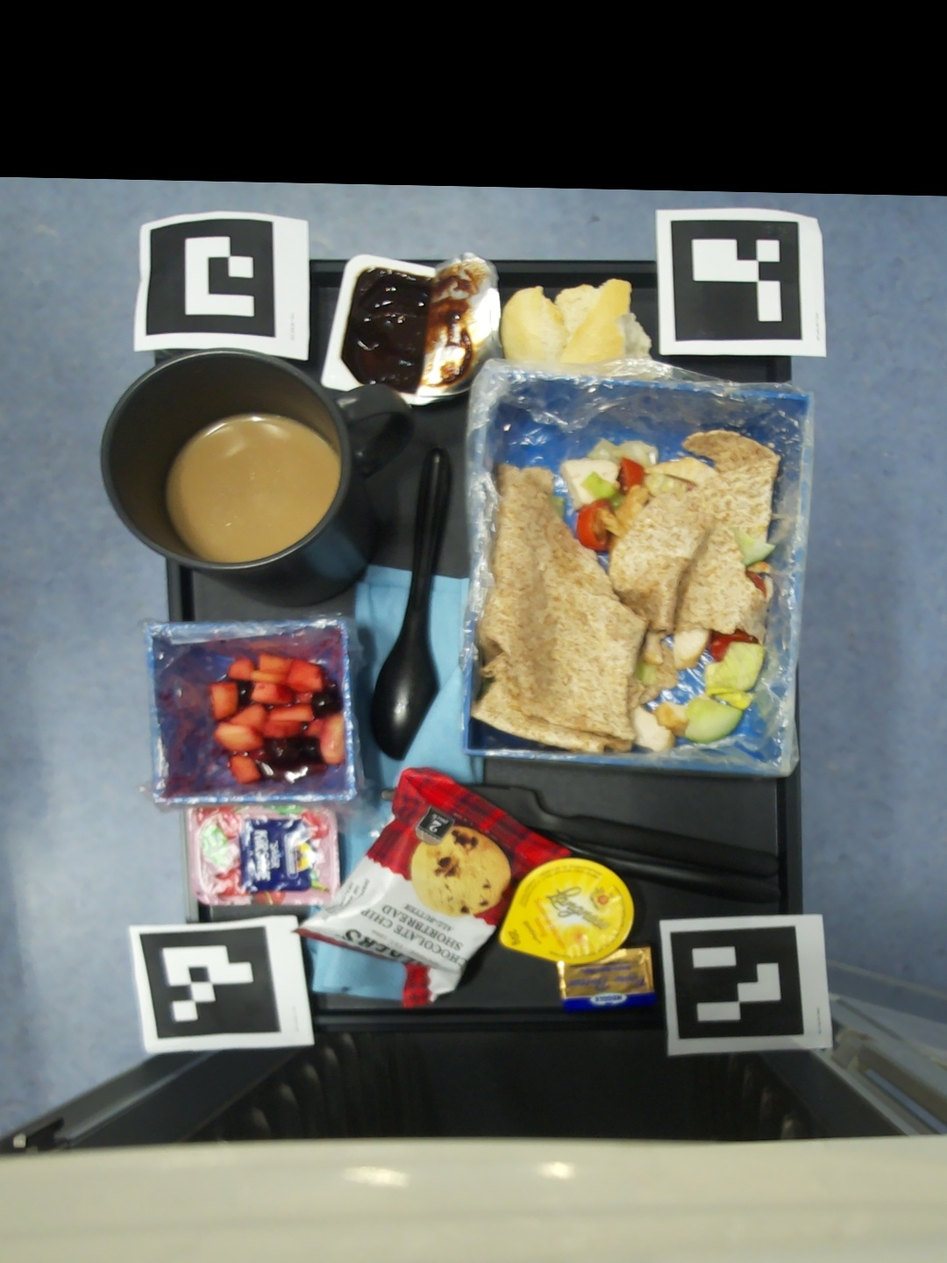bread_roll: (500, 279, 652, 364)
butter: (556, 946, 656, 1011)
cherry_jam: (185, 804, 340, 905)
coffee_cup: (101, 347, 412, 606)
cookie: (292, 766, 574, 1009)
fruit_salad: (210, 654, 344, 782)
honey: (500, 858, 635, 964)
plum_jam: (320, 252, 503, 405)
wrap_half_1: (470, 463, 743, 752)
wrap_half_2: (561, 429, 781, 711)
